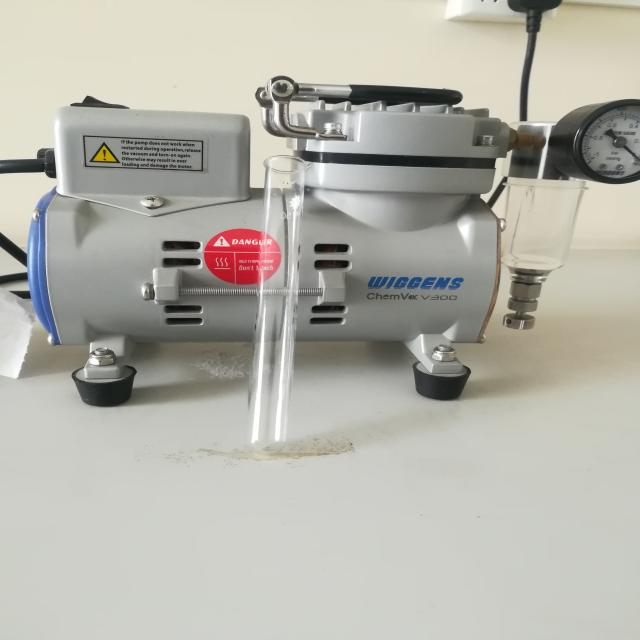Test_Tube: (224, 125, 347, 480)
